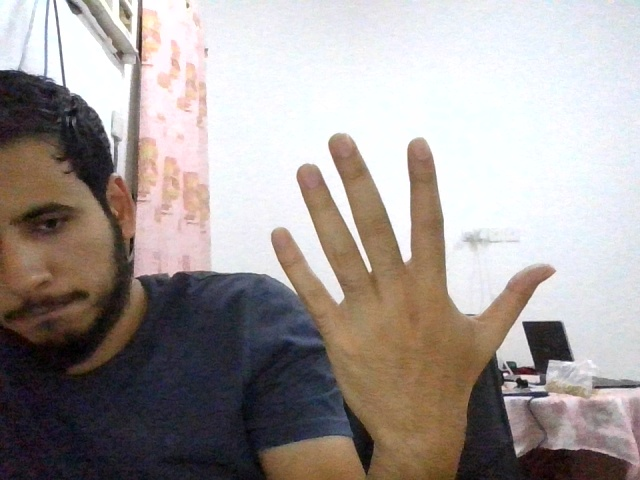Five: (272, 134, 558, 428)
